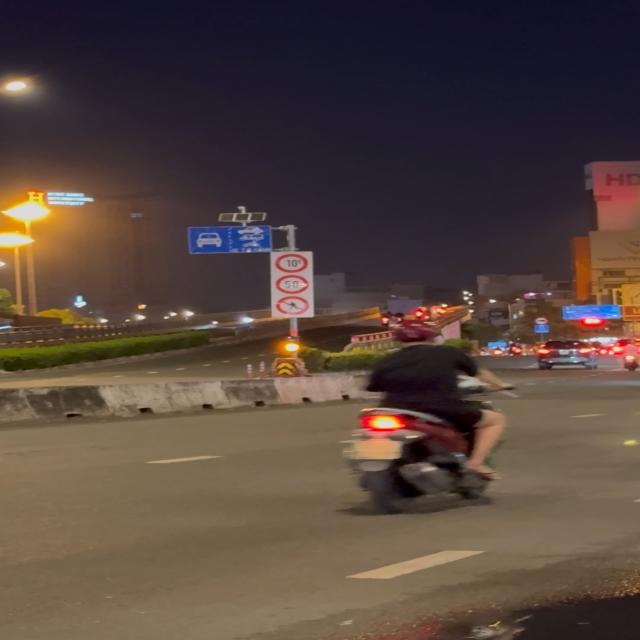Bien bao cam nguoi di bo: (275, 296, 312, 316)
Bien bao toc do toi da cho phep: (274, 274, 311, 295)
